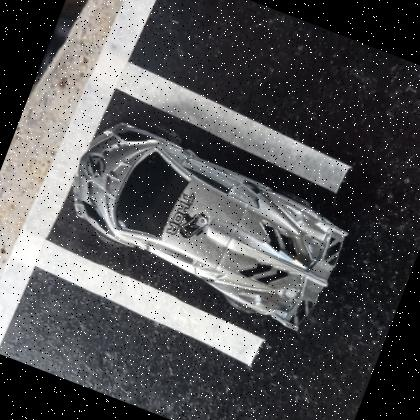Car: (71, 122, 346, 332)
